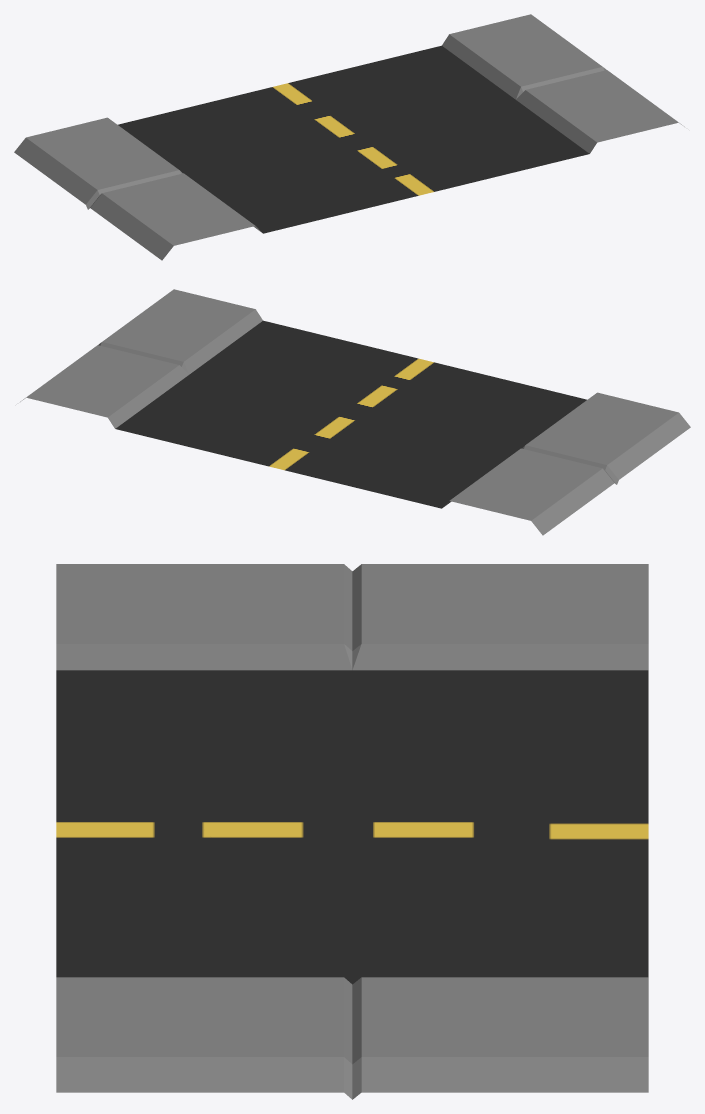
File: RoadSplineMesh2.fbx
The picture shows the model from 3 angles, top to bottom: view 1: azimuth 30°, elevation 25°; view 2: azimuth 150°, elevation 25°; view 3: azimuth 270°, elevation 25°; orthographic projection. The views are drawn at different scales.
Parts seen in each view (by area): view 1: pPlane1; view 2: pPlane1; view 3: pPlane1.
Part boxes in pixels (left/top/right/bottom): pPlane1: left=14, top=14, right=684, bottom=260; pPlane1: left=20, top=289, right=690, bottom=535; pPlane1: left=56, top=564, right=648, bottom=1099.
Bounding box in the file's own units: 1.25 × 0.0354 × 0.6076.
